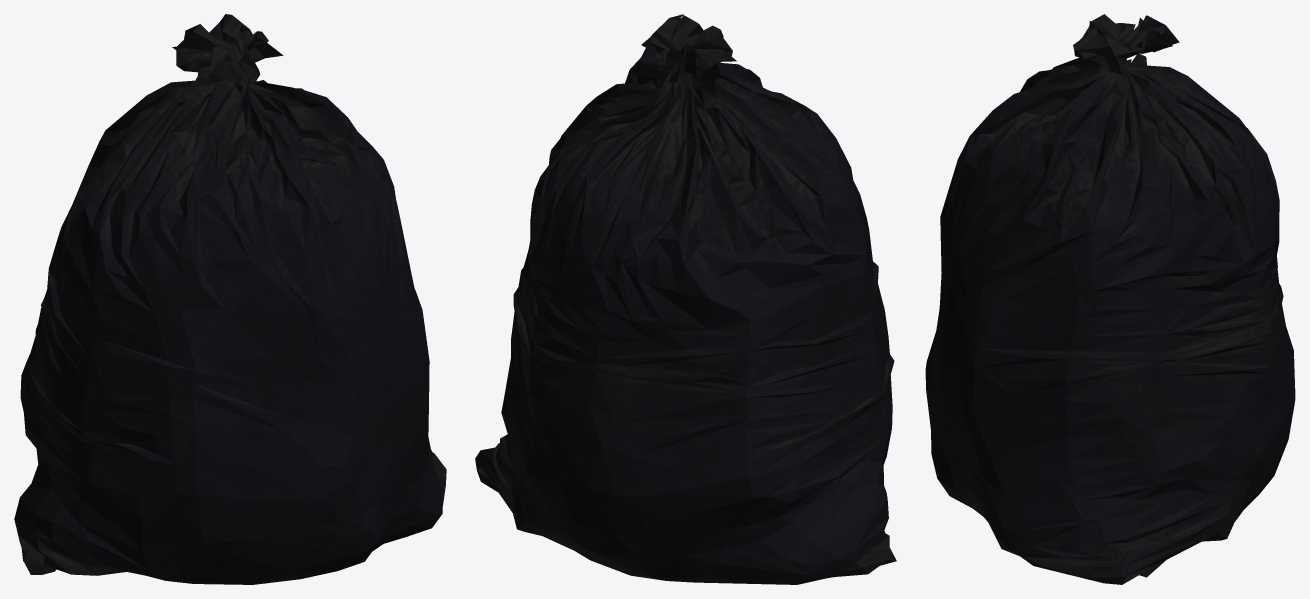
File: trash.glb
3 views of the same model, side by side, from view 1: azimuth 30°, elevation 25°; view 2: azimuth 150°, elevation 25°; view 3: azimuth 270°, elevation 25° (orthographic). The views are drawn at different scales.
Bounding box in the file's own units: 2.19 × 2.5 × 1.78.
1 material, 1 textured.
